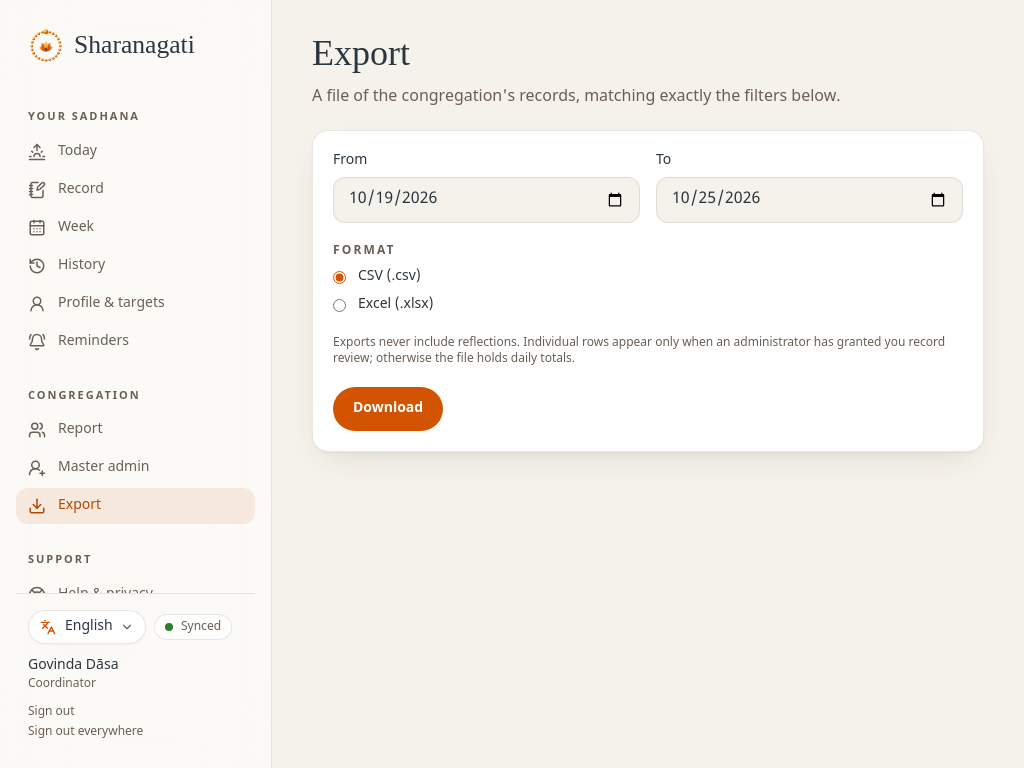
Scenario: ExportScreen › downloads a CSV for this week by default
Expected: the date field labelled "From" holds "2026-10-19", [333,177,640,223]
Expected: the date field labelled "To" holds "2026-10-25", [656,177,963,223]
Click the button "Download": click(388, 409) [333,387,443,431]
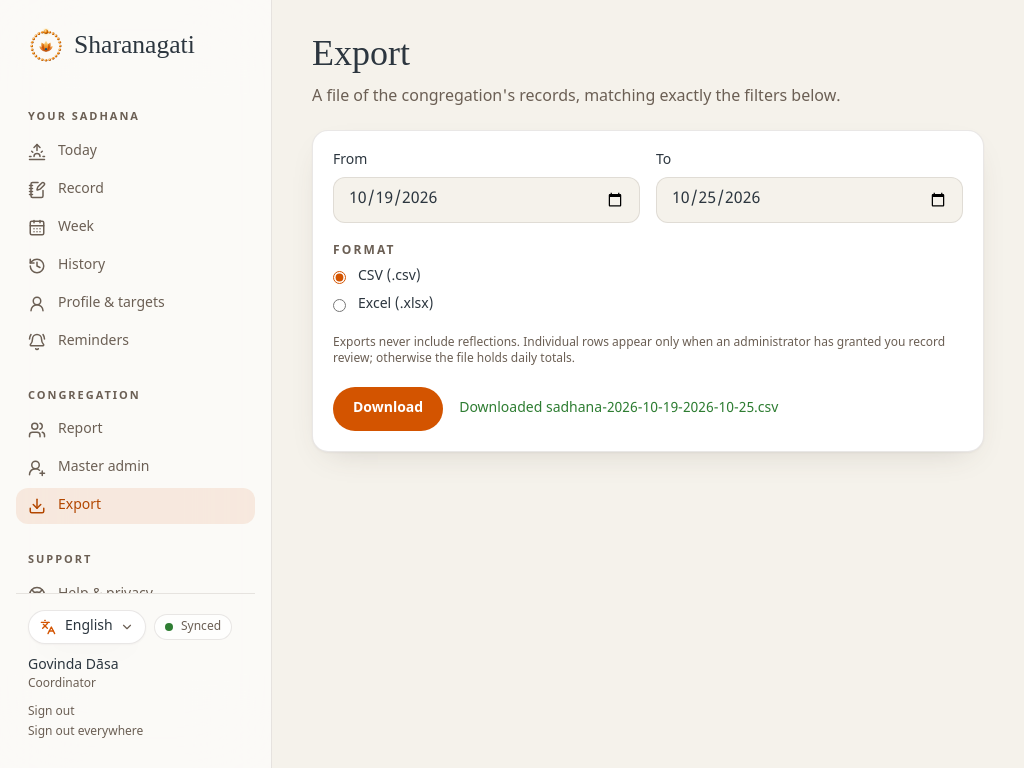
Now the text "Downloaded sadhana-2026-10-19-2026-10-25.csv" is shown, box [459,399,778,419]
